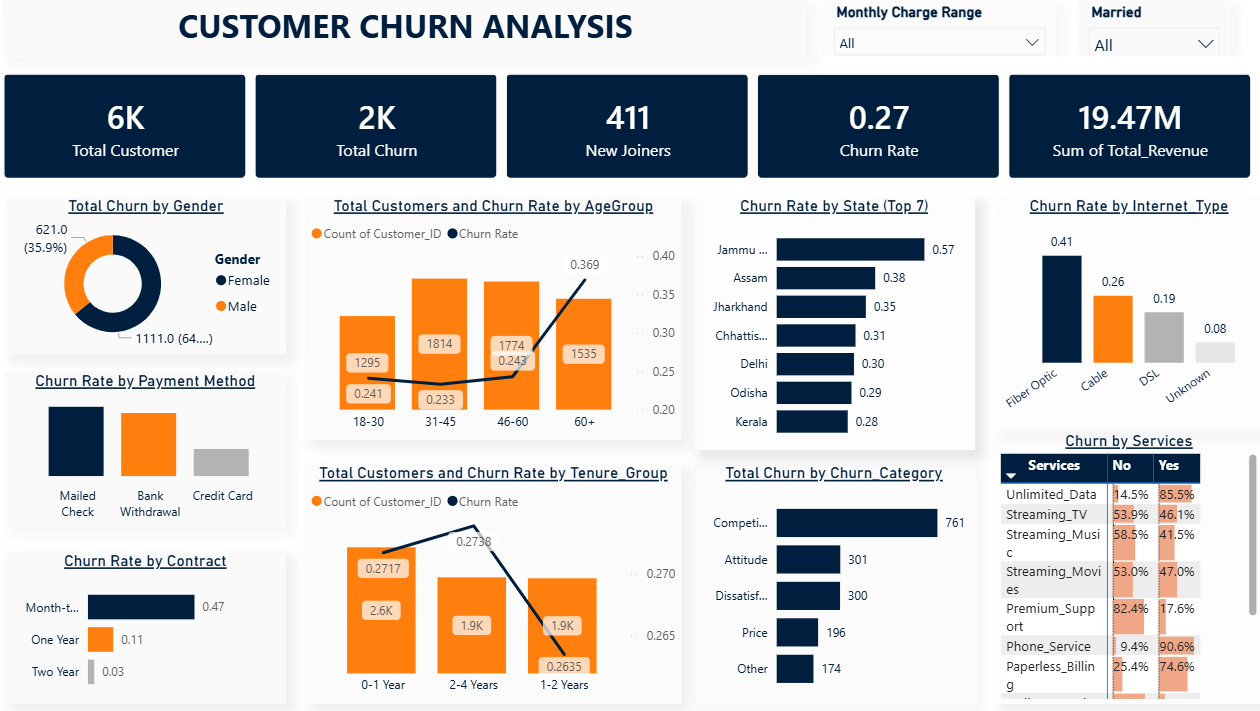

The page's visual inventory and layout, read from the dashboard file:
{"tool":"powerbi","page":{"name":"Summary","canvas":[1280,720],"ordinal":0},"visuals":[{"type":"lineStackedColumnComboChart","title":"Total Customers and Churn Rate by AgeGroup","fields":{"Category":["mapping Agegroup.Age_Group"],"Y2":["dummy table.Churn Rate"],"Y":["Count(public customer_data.Customer_ID)"]},"box":[318.5,205.3,373.2,242.6],"z":0},{"type":"lineStackedColumnComboChart","title":" Customer and Churn Rate by Tenure_Group","fields":{"Y":["CountNonNull(public customer_data.Customer_ID)"],"Y2":["dummy table.Churn Rate"],"Category":["mapping TenureGroup.Tenure_Group"]},"box":[318.5,471.5,373.2,238.8],"z":1000},{"type":"donutChart","fields":{"Category":["public customer_data.Gender"],"Y":["dummy table.Total Churn"]},"box":[19.9,205.3,278.6,156.7],"z":2000},{"type":"clusteredColumnChart","title":"Churn Rate by Payment Method","fields":{"Category":["public customer_data.Payment_Method"],"Y":["dummy table.Churn Rate"]},"box":[18.7,379.4,279.9,155.5],"z":3000},{"type":"clusteredBarChart","fields":{"Category":["public customer_data.Contract"],"Y":["dummy table.Churn Rate"]},"box":[18.7,558.5,279.9,151.8],"z":4000},{"type":"clusteredBarChart","title":"Churn Rate by State (Top 7)","fields":{"Category":["public customer_data.State"],"Y":["dummy table.Churn Rate"]},"box":[704.1,205.3,279.9,252.5],"z":5000},{"type":"columnChart","fields":{"Category":["public customer_data.Internet_Type"],"Y":["dummy table.Churn Rate"]},"box":[1005.1,205.3,265,233.9],"z":6000},{"type":"clusteredBarChart","fields":{"Category":["public customer_data.Churn_Category"],"Y":["dummy table.Total Churn"]},"box":[704.1,471.5,279.9,238.8],"z":7000},{"type":"slicer","fields":{"Values":["public customer_data.Monthly Charge Range"]},"box":[832.9,8.2,230.5,57.6],"z":8000},{"type":"slicer","fields":{"Values":["public customer_data.Married"]},"box":[1087.2,8.7,150.5,57.2],"z":9000},{"type":"cardVisual","fields":{"Data":["dummy table.Total Customer","dummy table.Total Churn","dummy table.New Joiners","dummy table.Churn Rate","Sum(public customer_data.Total_Revenue)"]},"box":[0,66.3,1280.3,139.5],"z":10000},{"type":"textbox","box":[17.8,8.2,800,57.6],"z":11000},{"type":"pivotTable","title":"Churn by Services","fields":{"Rows":["public customer_data (2).Services"],"Columns":["public customer_data (2).Value"],"Values":["Sum(public customer_data (2).Churn_Flag)"]},"box":[1005.1,439.1,265,271.2],"z":12000}]}

Visuals, with their boxes in screenshot pixels (x1, y1, x2, y2), scaled from the page's 1280x720 canvas onto the 1260x711 screenshot:
"Total Customers and Churn Rate by AgeGroup" lineStackedColumnComboChart: locate(314, 203, 681, 442)
" Customer and Churn Rate by Tenure_Group" lineStackedColumnComboChart: locate(314, 466, 681, 701)
donutChart - public customer_data.Gender x dummy table.Total Churn: locate(20, 203, 294, 357)
"Churn Rate by Payment Method" clusteredColumnChart: locate(18, 375, 294, 528)
clusteredBarChart - public customer_data.Contract x dummy table.Churn Rate: locate(18, 552, 294, 701)
"Churn Rate by State (Top 7)" clusteredBarChart: locate(693, 203, 969, 452)
columnChart - public customer_data.Internet_Type x dummy table.Churn Rate: locate(989, 203, 1250, 434)
clusteredBarChart - public customer_data.Churn_Category x dummy table.Total Churn: locate(693, 466, 969, 701)
slicer - public customer_data.Monthly Charge Range: locate(820, 8, 1047, 65)
slicer - public customer_data.Married: locate(1070, 9, 1218, 65)
cardVisual - dummy table.Total Customer x dummy table.Total Churn: locate(0, 65, 1259, 203)
textbox: locate(18, 8, 805, 65)
"Churn by Services" pivotTable: locate(989, 434, 1250, 701)
